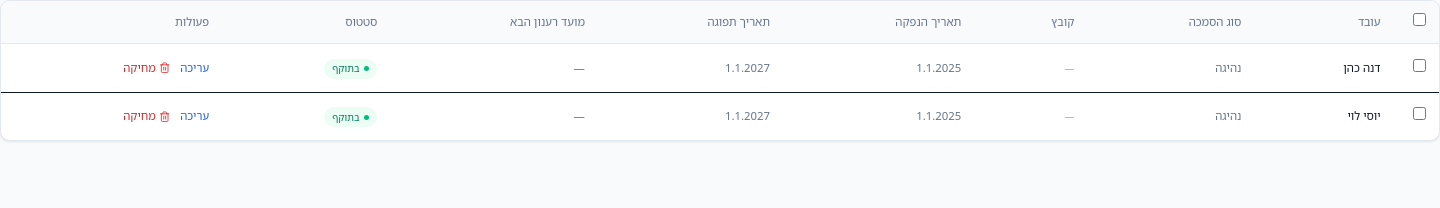
Test case: CertificationsList — selection UI › select-all toggles all rows
What coordinates should you click on to do the following:
click the checkbox named "בחר הכל"
I would click on:
 (1420, 20)
Its box is [1413,13,1426,26].
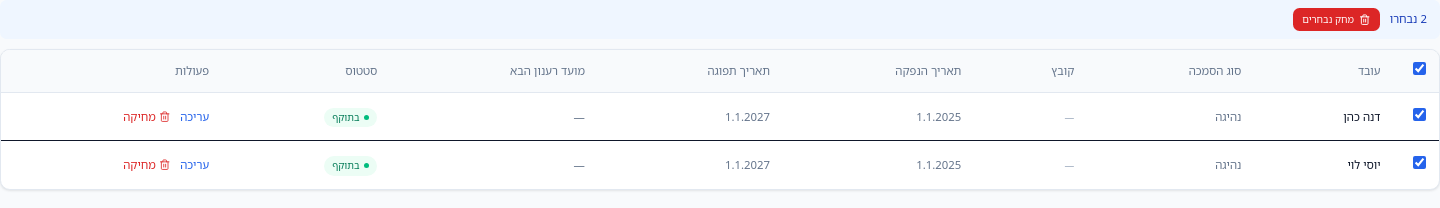
Expected: the checkbox named "בחר דנה כהן — נהיגה" is checked, [1413,108,1426,121]
Expected: the checkbox named "בחר יוסי לוי — נהיגה" is checked, [1413,156,1426,169]
What coordinates should you click on to do the following:
click the checkbox named "בחר הכל"
I would click on:
 (1420, 69)
Its box is [1413,62,1426,75].
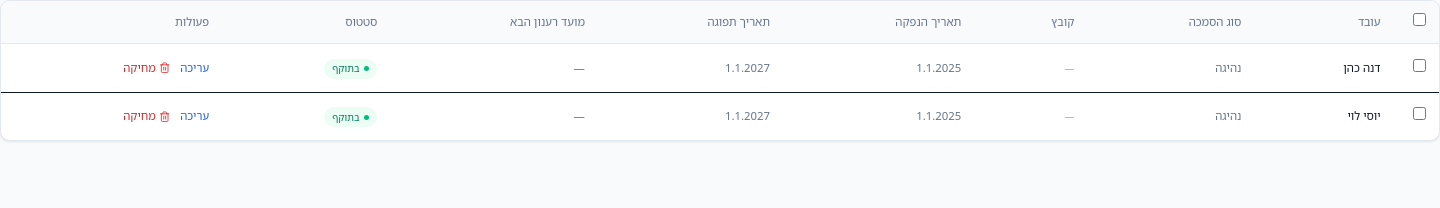
Expected: the checkbox named "בחר דנה כהן — נהיגה" is not checked, [1413,59,1426,72]
Expected: the checkbox named "בחר יוסי לוי — נהיגה" is not checked, [1413,108,1426,120]
